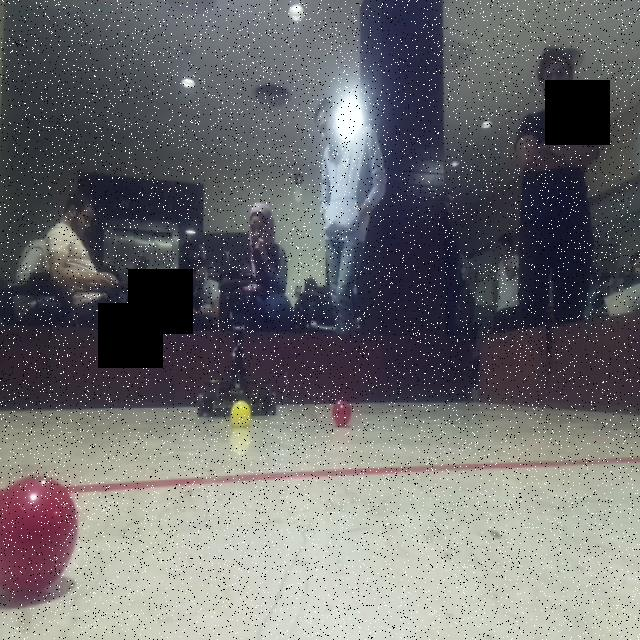ball: (3, 469, 82, 602), (227, 394, 257, 430), (328, 396, 357, 431)
